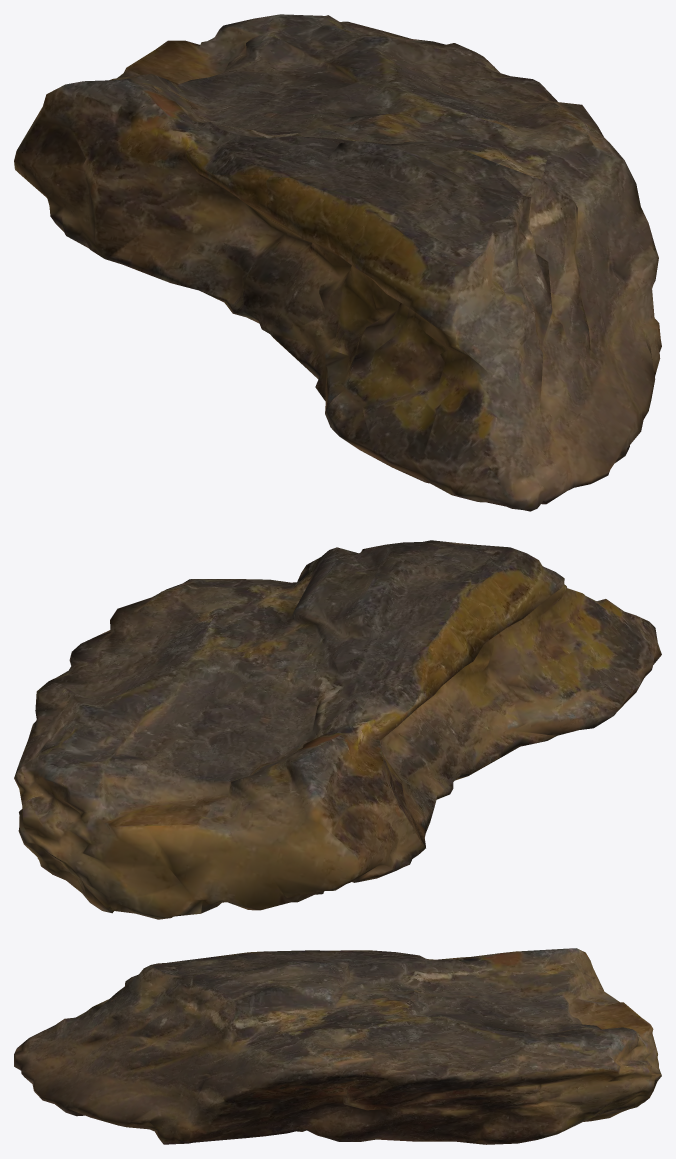
The model's file is ph-rock_09.glb.
The picture shows the model from 3 angles, top to bottom: view 1: azimuth 30°, elevation 25°; view 2: azimuth 150°, elevation 25°; view 3: azimuth 270°, elevation 25°; orthographic projection. The views are drawn at different scales.
Parts seen in each view (by area): view 1: rock_09_LOD0; view 2: rock_09_LOD0; view 3: rock_09_LOD0.
Part boxes in pixels (bbox=[...]): rock_09_LOD0: bbox=[14, 14, 661, 511]; rock_09_LOD0: bbox=[14, 540, 661, 919]; rock_09_LOD0: bbox=[14, 948, 661, 1144].
Size of the model in its own units: 0.0739 by 0.0328 by 0.1446.
Materials: 1 (1 with a texture image).
